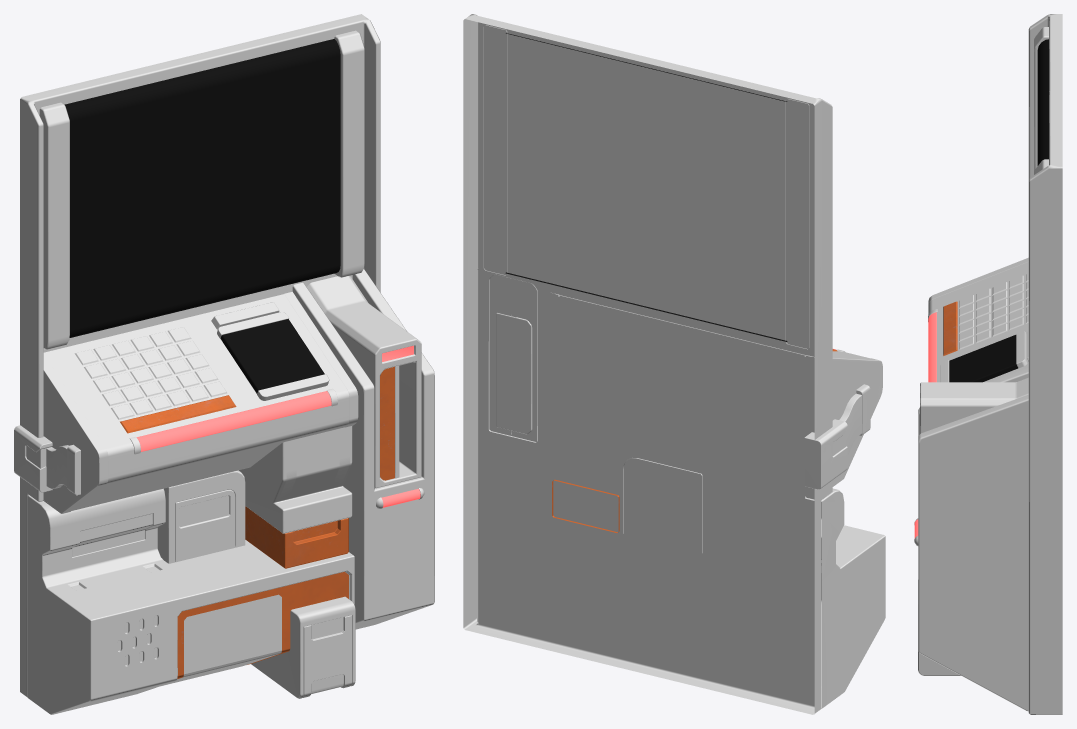
File: panel_mirror.fbx
3 views of the same model, side by side, from view 1: azimuth 30°, elevation 25°; view 2: azimuth 150°, elevation 25°; view 3: azimuth 270°, elevation 25° (orthographic). The views are drawn at different scales.
Visible parts, largest first — view 1: Sphere.003, Sphere.004; view 2: Sphere.003; view 3: Sphere.003, Sphere.004.
Boxes of the visible parts, x1=… form: Sphere.003: x1=14, y1=14, x2=434, y2=714; Sphere.004: x1=136, y1=391, x2=331, y2=451; Sphere.003: x1=463, y1=14, x2=885, y2=714; Sphere.003: x1=914, y1=14, x2=1062, y2=714; Sphere.004: x1=928, y1=312, x2=936, y2=382.
Size of the model in its own units: 62.93 by 103 by 25.1.
